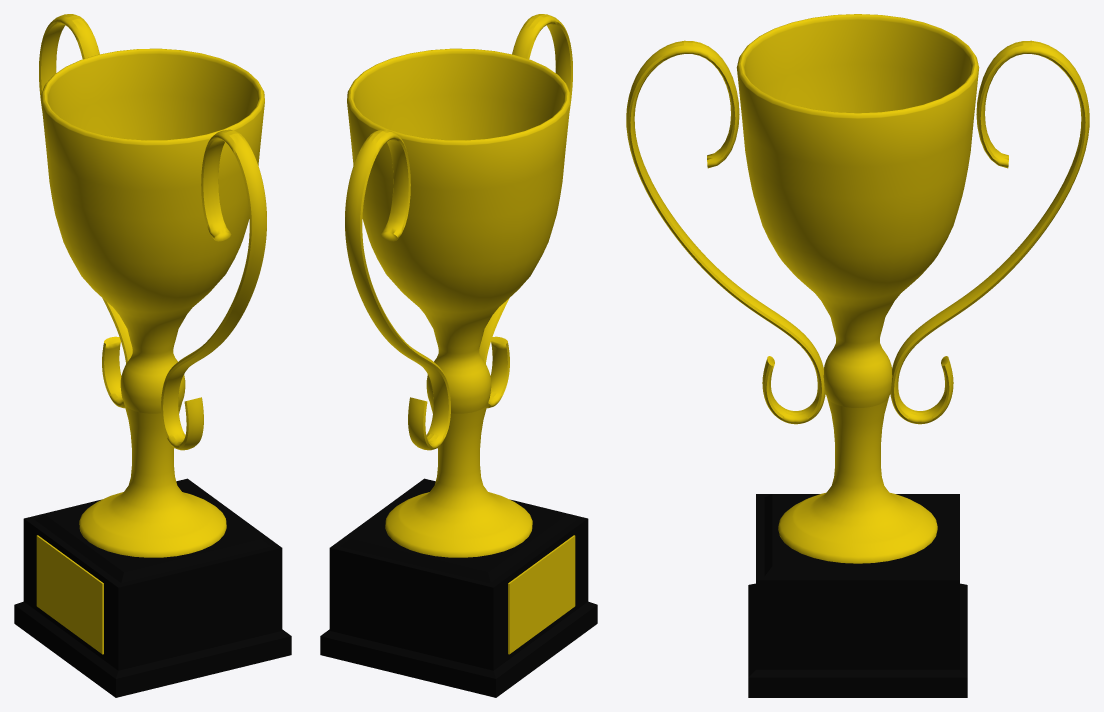
The model's file is coupe or.fbx.
3 views of the same model, side by side, from view 1: azimuth 30°, elevation 25°; view 2: azimuth 150°, elevation 25°; view 3: azimuth 270°, elevation 25° (orthographic). The views are drawn at different scales.
Parts seen in each view (by area): view 1: Cylinder; view 2: Cylinder; view 3: Cylinder.
Boxes of the visible parts, left/top/right/bottom form: Cylinder: left=14, top=14, right=291, bottom=697; Cylinder: left=320, top=14, right=597, bottom=697; Cylinder: left=626, top=14, right=1089, bottom=697.
Bounding box in the file's own units: 221 × 613 × 423.
